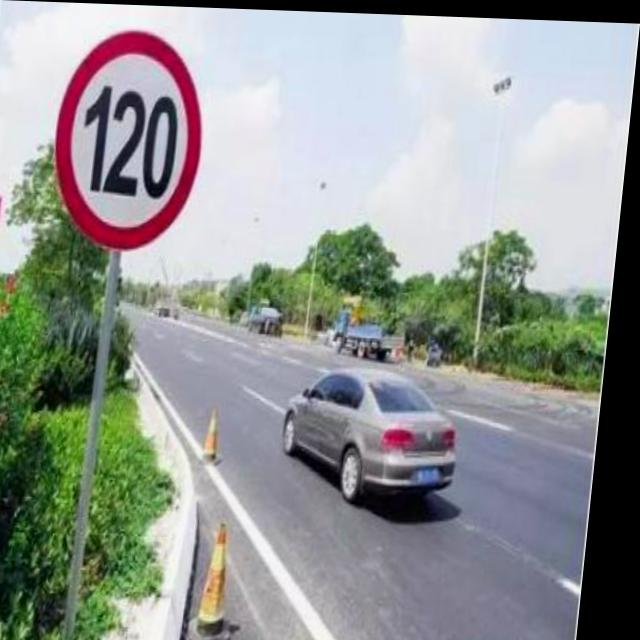limit120: (47, 19, 219, 253)
